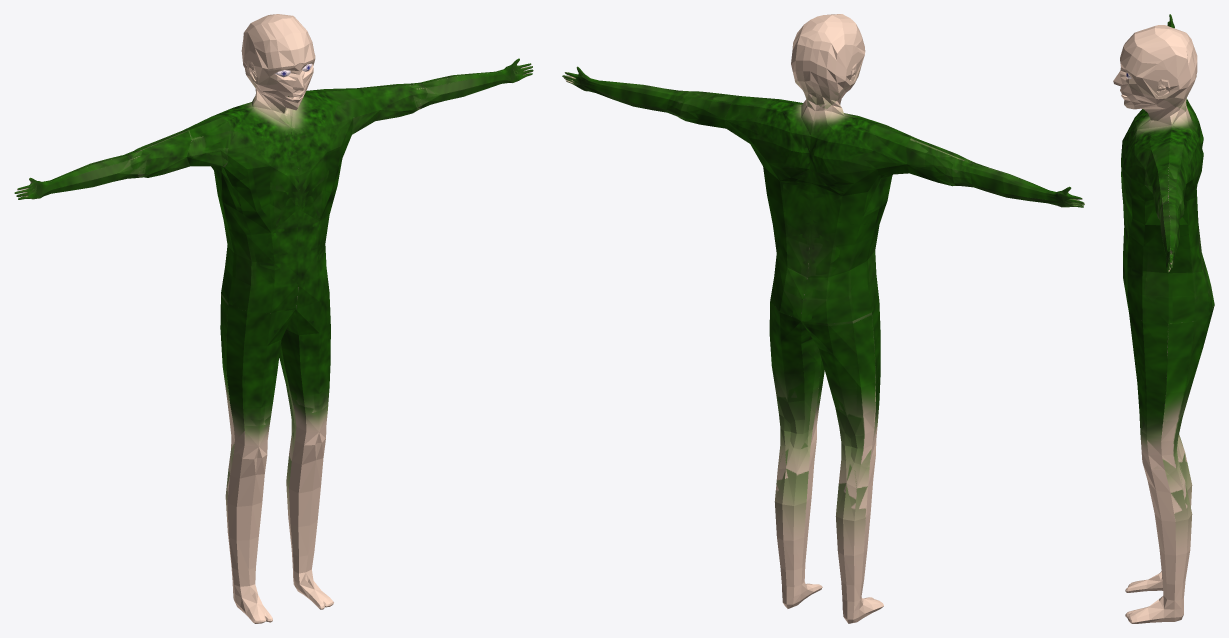
The model's file is playermesh_nocloth.obj.
3 views of the same model, side by side, from view 1: azimuth 30°, elevation 25°; view 2: azimuth 150°, elevation 25°; view 3: azimuth 270°, elevation 25° (orthographic). The views are drawn at different scales.
Visible parts, largest first — view 1: Head_Cube.001; view 2: Head_Cube.001; view 3: Head_Cube.001.
Boxes of the visible parts, x1,y1,x2,y2 form: Head_Cube.001: (14,14,533,623); Head_Cube.001: (562,14,1084,623); Head_Cube.001: (1113,14,1214,623).
Size of the model in its own units: 7.63 by 8.27 by 1.32.
3 materials, 3 textured.
